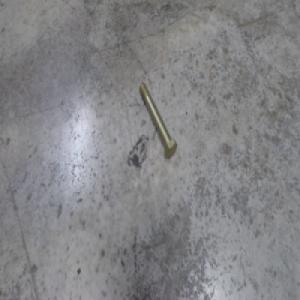Bolt: (137, 81, 177, 161)
